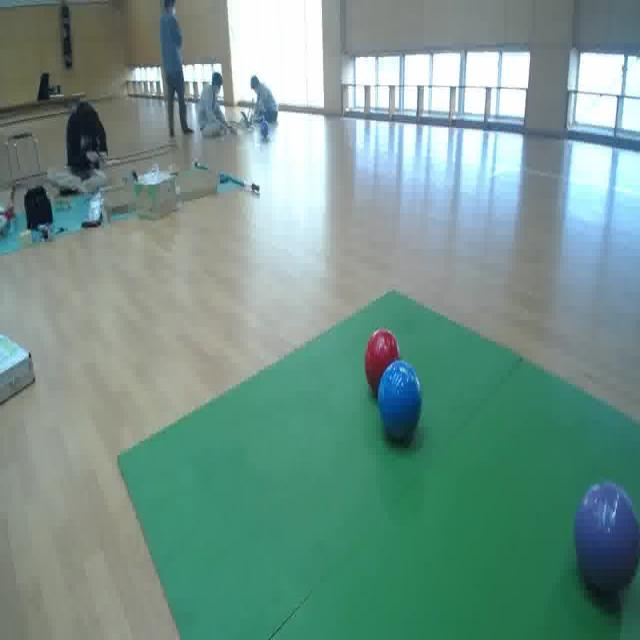blue_ball: (378, 362, 422, 441)
purple_ball: (576, 483, 640, 601)
red_ball: (364, 330, 402, 394)
